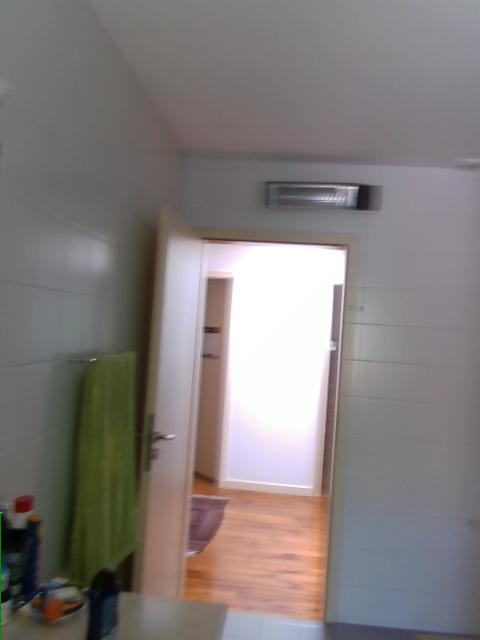open_door: (142, 231, 350, 637)
